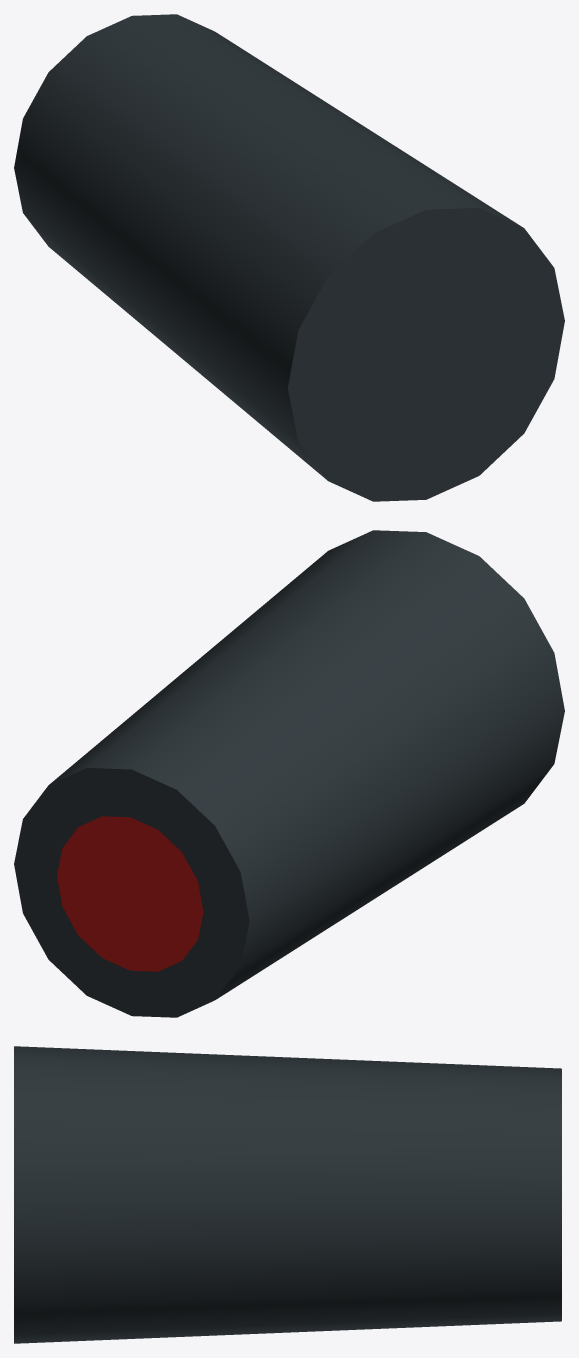
The model's file is cl-er-large-laser-round.glb.
The picture shows the model from 3 angles, top to bottom: view 1: azimuth 30°, elevation 25°; view 2: azimuth 150°, elevation 25°; view 3: azimuth 270°, elevation 25°; orthographic projection. The views are drawn at different scales.
Visible parts, largest first — view 1: mount; view 2: mount; view 3: mount.
Part boxes in pixels (bbox=[...]): mount: bbox=[14, 14, 564, 501]; mount: bbox=[14, 530, 564, 1017]; mount: bbox=[14, 1046, 561, 1343].
Size of the model in its own units: 3 by 3 by 5.55.
